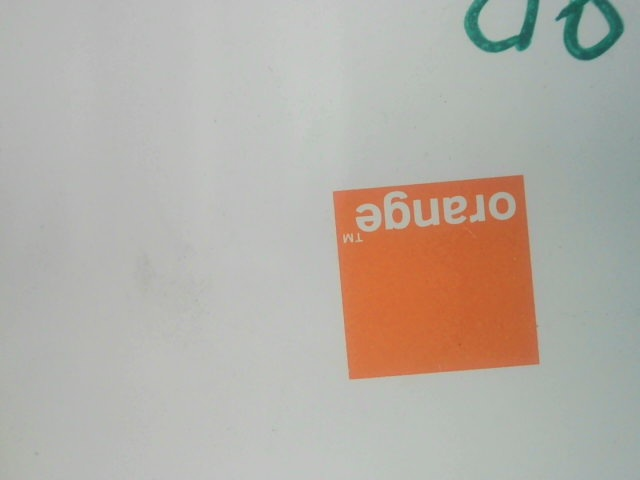AR_Orange: (309, 170, 561, 381)
